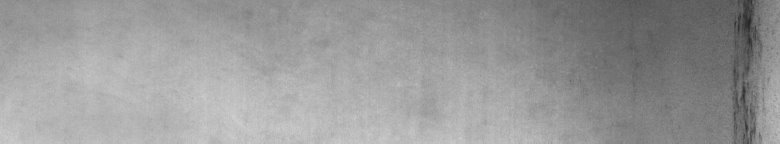ka: (724, 4, 774, 136)
